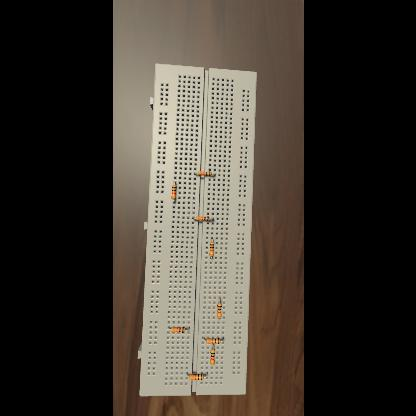breadboard: (138, 64, 256, 396)
resistor: (216, 302, 222, 318), (208, 242, 214, 256), (206, 338, 220, 344), (189, 374, 203, 380), (209, 349, 214, 365), (196, 216, 210, 221), (171, 185, 176, 199), (170, 327, 184, 332), (197, 172, 211, 176)
wire: (221, 336, 223, 342), (218, 297, 220, 303), (204, 372, 206, 378), (187, 372, 189, 378), (210, 237, 212, 242), (203, 337, 205, 341), (168, 326, 170, 330), (209, 218, 212, 220), (186, 327, 188, 330), (218, 318, 220, 320), (212, 174, 214, 176), (210, 257, 212, 259), (195, 173, 197, 175), (173, 183, 175, 185), (173, 200, 175, 202), (193, 218, 195, 219)
